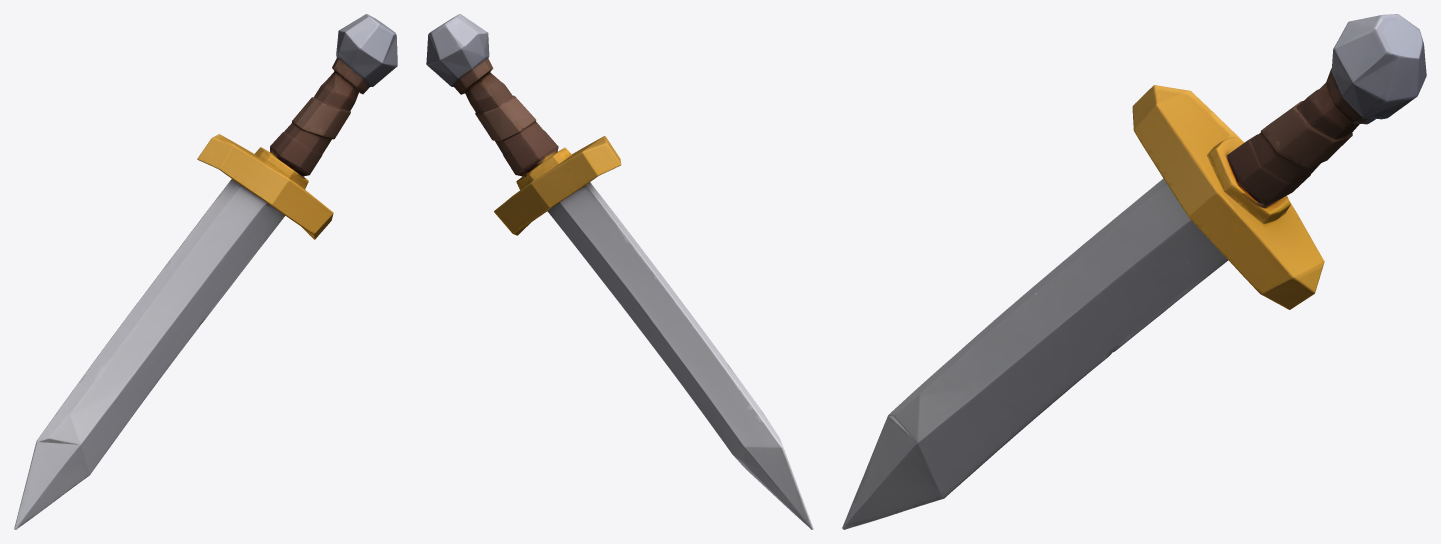
Rendered from sword-original.glb.
The picture shows the model from 3 angles, left to right: view 1: azimuth 30°, elevation 25°; view 2: azimuth 150°, elevation 25°; view 3: azimuth 330°, elevation 25°; orthographic projection. The views are drawn at different scales.
Parts seen in each view (by area): view 1: node_0; view 2: node_0; view 3: node_0.
Boxes of the visible parts, x1,y1,x2,y2 form: node_0: (14, 14, 397, 529); node_0: (426, 14, 813, 529); node_0: (842, 14, 1426, 529).
Size of the model in its own units: 0.8222 by 0.8781 by 0.1204.
1 material, 1 textured.
